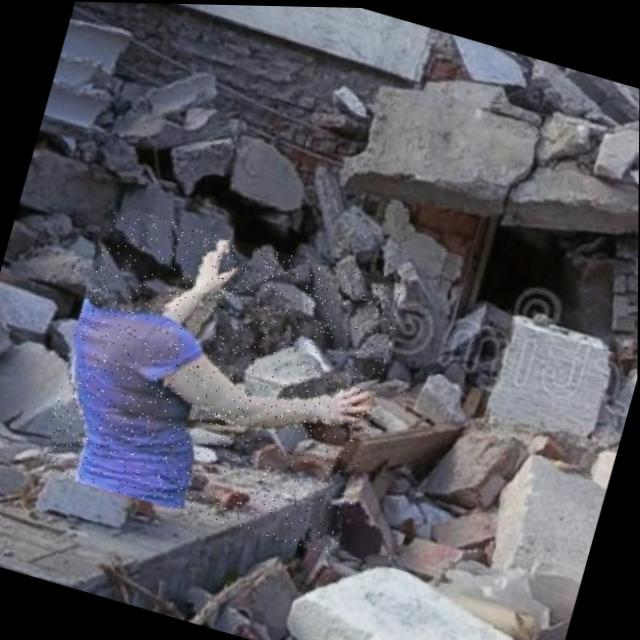Person in Rubble: (36, 200, 408, 556)
